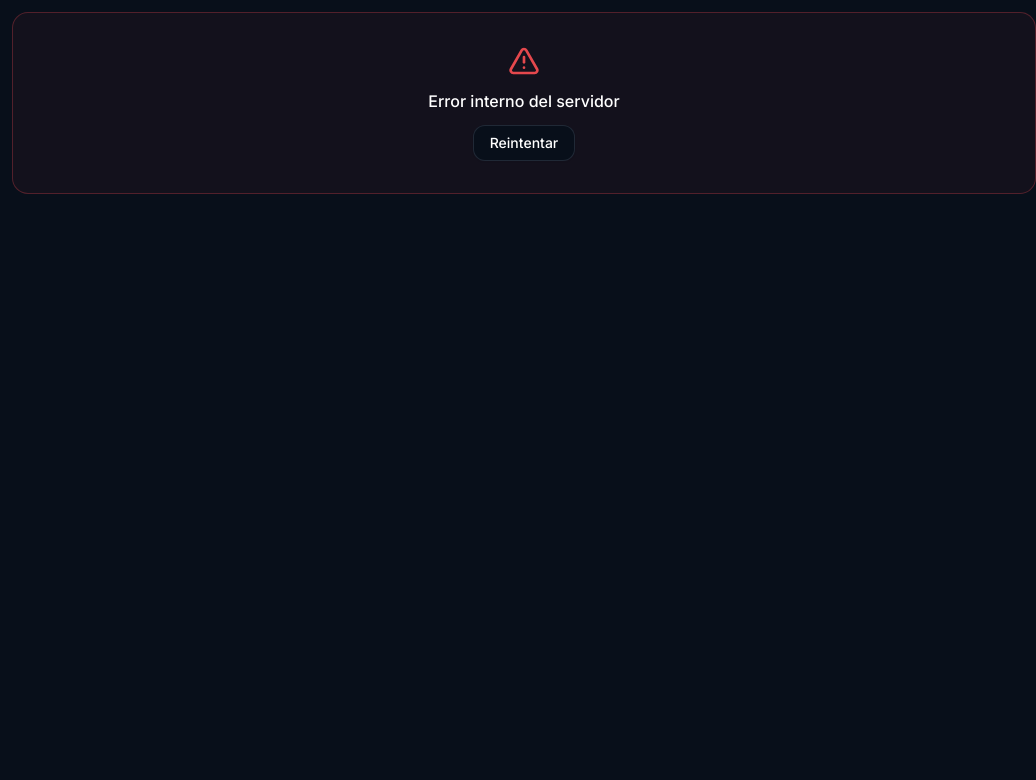
Scenario: TeamCalendarPage › shows the API error and retries
Expected: the message shows "Error interno del servidor", x1=428 y1=91 x2=620 y2=111
Step 1. Click the button "Reintentar" → x=524, y=143, box x1=473 y1=125 x2=575 y2=161
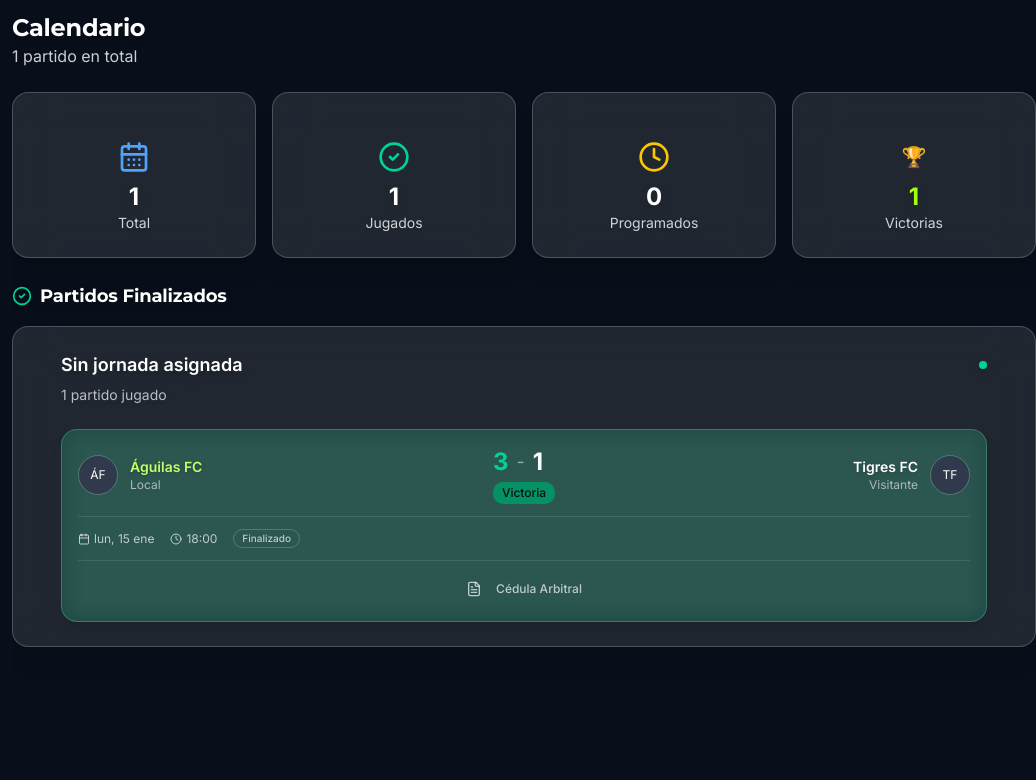
Result: the text "Tigres FC" is shown at x1=853 y1=457 x2=918 y2=477
